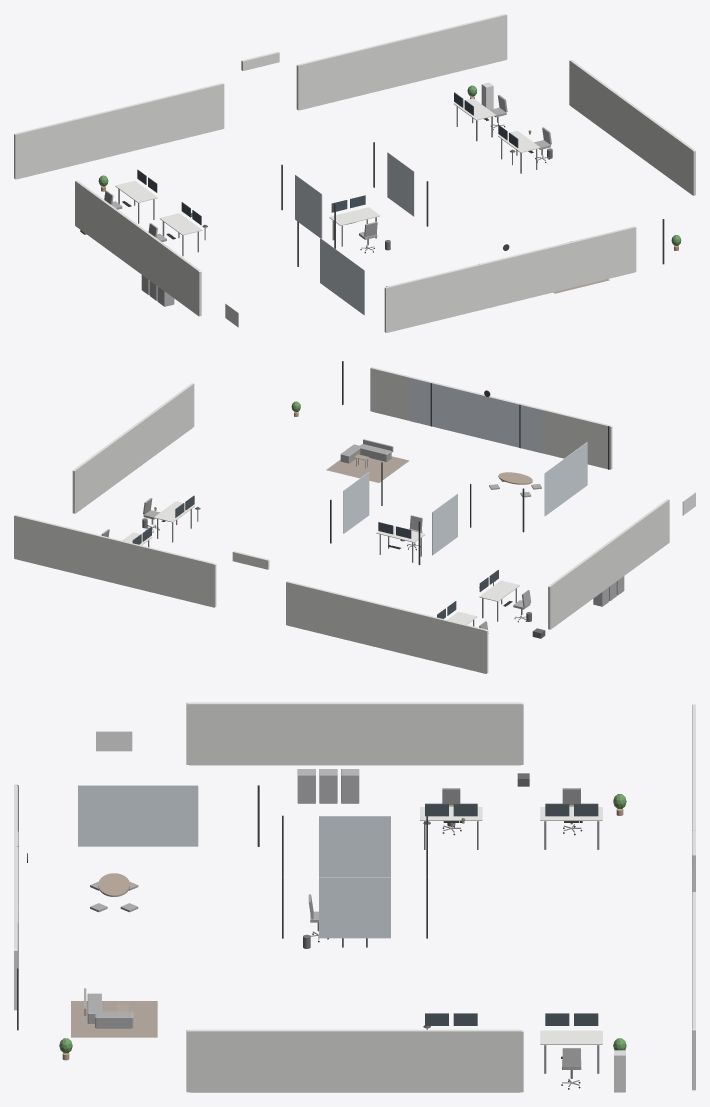
The model's file is office_v25.glb.
3 views of the same model, one above another, from view 1: azimuth 30°, elevation 25°; view 2: azimuth 150°, elevation 25°; view 3: azimuth 270°, elevation 25° (orthographic). The views are drawn at different scales.
Parts seen in each view (by area): view 1: Cube, Cube.002, Cube.001, Cube.004, Cube.005, Cube.013, Cube.012, Cube.011, Cube.029, Cube.053, Cube.041; view 2: Cube.001, Cube.002, Cube.014, Cube.005, Cube.004, Cube, Cube.013, Plane.001, Cube.012, Cube.011; view 3: Cube.004, Cube.005, Cube.013, Cube.012, Cube.011, Plane.001, Cube.077, Cube.006, Cube, Cube.002, Cube.024, Cube.027 (+5 smaller).
Boxes of the visible parts, x1,y1,x2,y2 form: Cube: (384,226,636,332); Cube.002: (296,14,507,110); Cube.001: (14,83,224,179); Cube.004: (75,180,201,316); Cube.005: (569,60,695,195); Cube.013: (320,238,364,315); Cube.012: (387,152,414,216); Cube.011: (295,175,322,238); Cube.029: (159,213,202,235); Cube.053: (329,207,380,225); Cube.041: (115,181,157,202); Cube.001: (286,581,488,673); Cube.002: (14,515,216,607); Cube.014: (409,377,542,453); Cube.005: (72,383,194,513); Cube.004: (548,499,669,629); Cube: (370,367,612,469); Cube.013: (544,442,587,515); Plane.001: (326,456,409,482); Cube.012: (343,472,369,533); Cube.011: (432,493,457,555); Cube.004: (186,702,523,765); Cube.005: (186,1029,523,1092); Cube.013: (78,785,198,846); Cube.012: (319,877,390,938); Cube.011: (319,816,390,876); Plane.001: (71,1001,157,1037); Cube.077: (540,1030,602,1044); Cube.006: (236,1035,472,1088); Cube: (14,784,17,1010); Cube.002: (692,892,695,1090); Cube.024: (96,731,132,751); Cube.027: (95,1011,133,1028).
Size of what is drawn, in the model's own units: 16.16 by 2.65 by 14.16.
